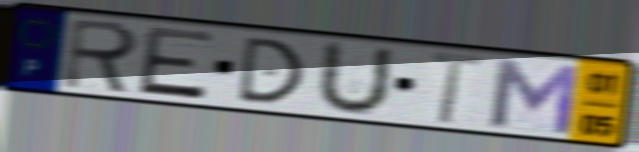D: (234, 35, 308, 106)
E: (134, 24, 219, 103)
M: (487, 55, 582, 138)
R: (59, 16, 143, 97)
T: (428, 48, 485, 127)
U: (312, 38, 396, 117)
